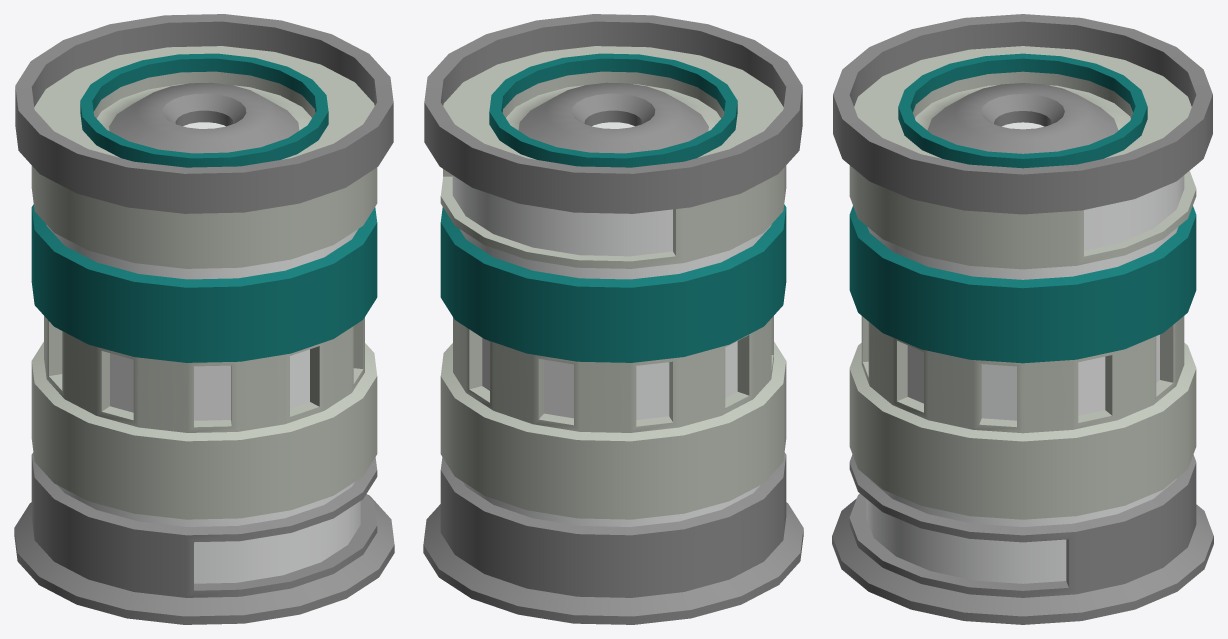
The model's file is SM_barrel_blue.fbx.
3 renders of one model, left to right at view 1: azimuth 30°, elevation 25°; view 2: azimuth 150°, elevation 25°; view 3: azimuth 270°, elevation 25°, orthographic.
Visible parts, largest first — view 1: pCylinder23; view 2: pCylinder23; view 3: pCylinder23.
Boxes of the visible parts, x1=… form: pCylinder23: x1=14, y1=14, x2=394, y2=624; pCylinder23: x1=423, y1=14, x2=803, y2=624; pCylinder23: x1=832, y1=14, x2=1213, y2=624.
Bounding box in the file's own units: 123 × 160 × 123.
